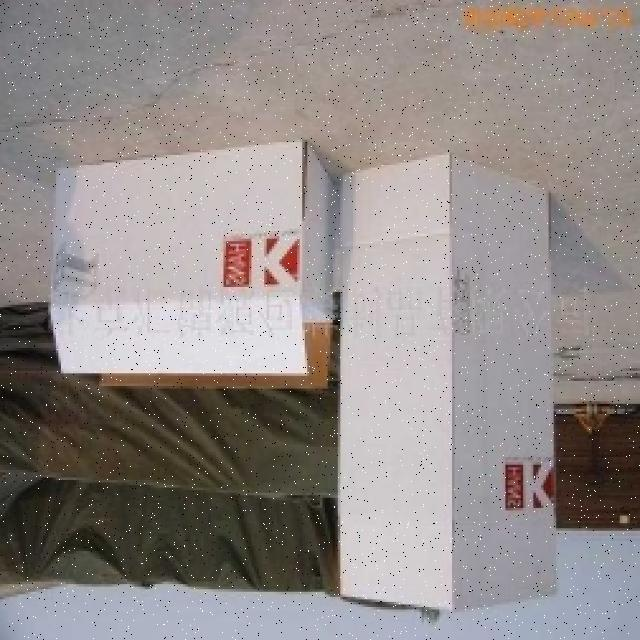box: (344, 147, 572, 610), (51, 127, 354, 396)
